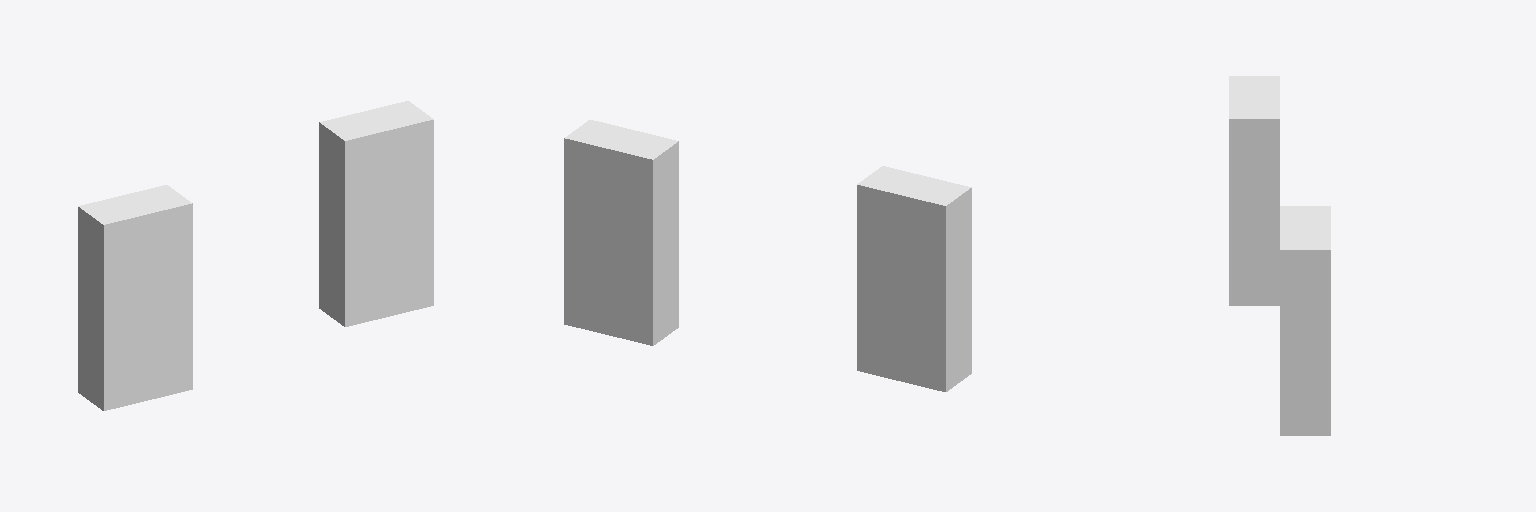
Rendered from 2.5wall.obj.
3 renders of one model, left to right at view 1: azimuth 30°, elevation 25°; view 2: azimuth 150°, elevation 25°; view 3: azimuth 270°, elevation 25°, orthographic.
Size of the model in its own units: 24 by 12 by 6.